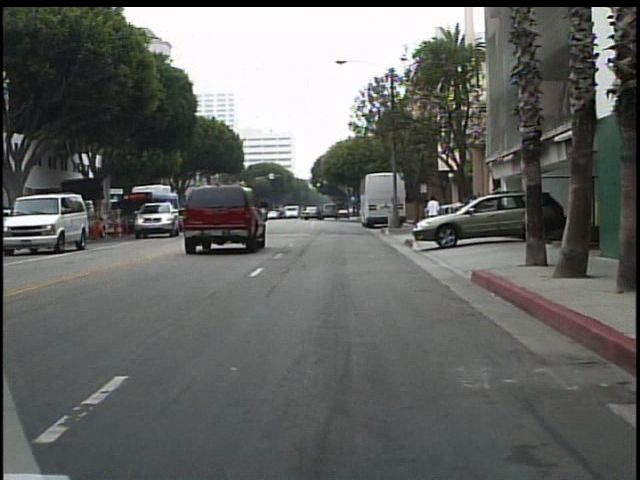person: (422, 193, 444, 237)
